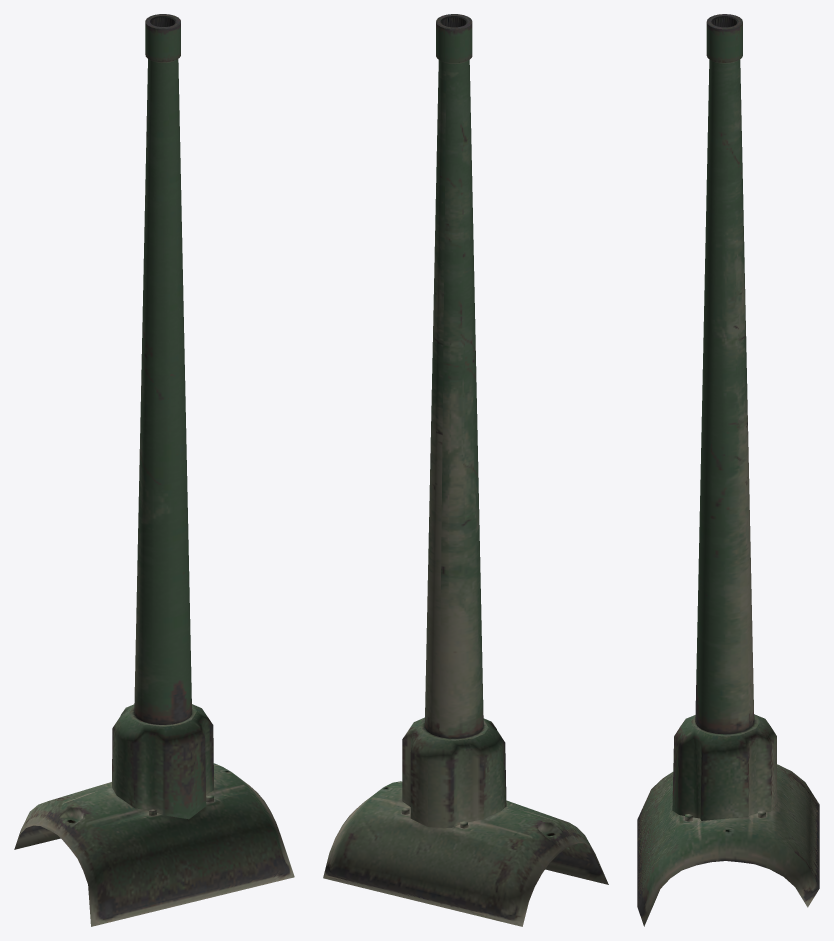
Rendered from Gun_03.glb.
The picture shows the model from 3 angles, left to right: view 1: azimuth 30°, elevation 25°; view 2: azimuth 150°, elevation 25°; view 3: azimuth 270°, elevation 25°; orthographic projection.
Visible parts, largest first — view 1: set_0_group_0; view 2: set_0_group_0; view 3: set_0_group_0.
Part boxes in pixels (<box>): set_0_group_0: <box>14,14,294,926</box>; set_0_group_0: <box>323,14,608,926</box>; set_0_group_0: <box>637,14,819,926</box>.
Bounding box in the file's own units: 0.8174 × 3.25 × 0.6263.
1 material, 1 textured.
